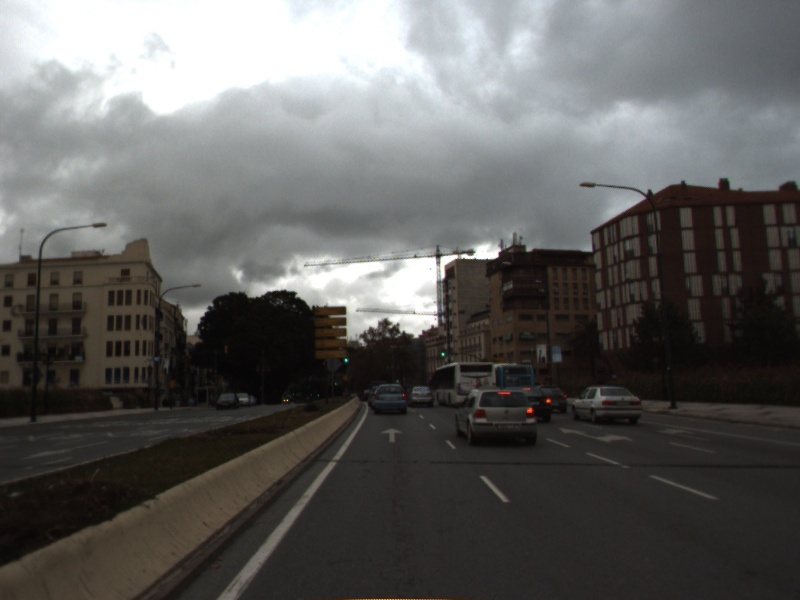RIGHT: (654, 426, 713, 444)
STRAIGHT: (379, 425, 407, 445)
STRAIGHT_RIGHT: (556, 425, 635, 445)
